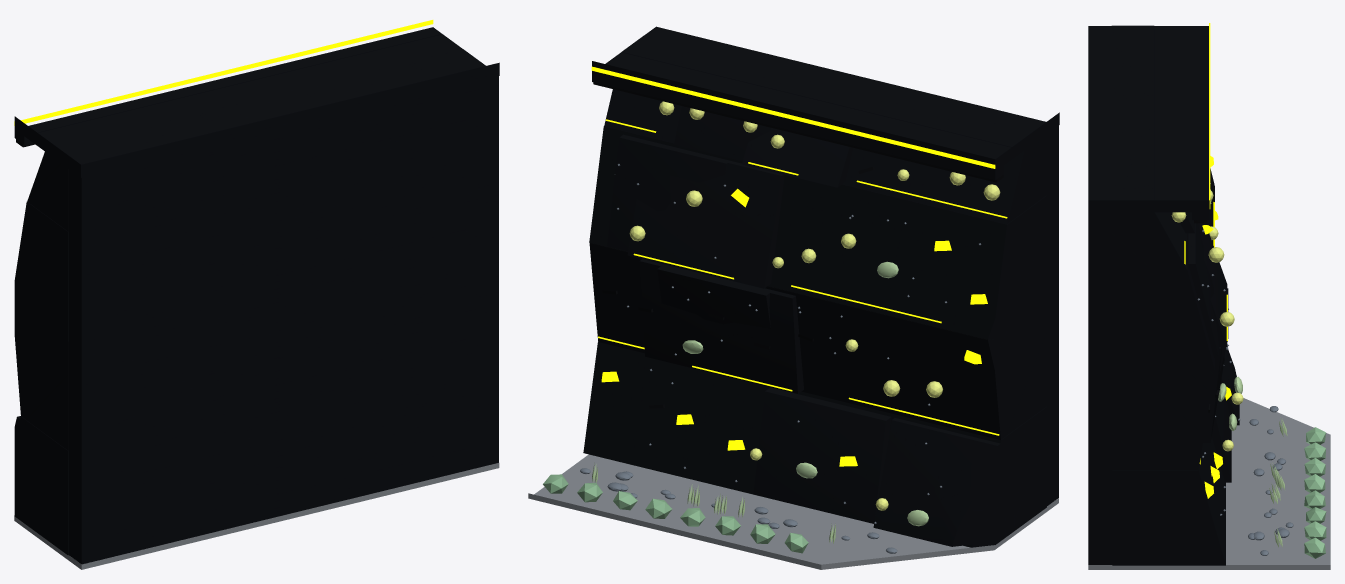
The model's file is tt_plinth_skirt_terrace_mitre_se.glb.
3 views of the same model, side by side, from view 1: azimuth 30°, elevation 25°; view 2: azimuth 150°, elevation 25°; view 3: azimuth 270°, elevation 25° (orthographic). The views are drawn at different scales.
Parts seen in each view (by area): view 1: Skirt_Core, Cap_Course, Course3_Facets, Course0_Facets, Course1_Facets, Course2_Facets, Base_Mat, Cap_Court_Line; view 2: Course2_Facets, Course0_Facets, Course1_Facets, Course3_Facets, Cap_Course, Base_Mat, Skirt_Core, Moss_Edge, Tennis_Ball_Holds, Cap_Court_Line, Seam_Tape, Jug_Holds (+4 smaller); view 3: Cap_Course, Base_Mat, Course0_Facets, Course2_Facets, Course3_Facets, Course1_Facets, Skirt_Core, Moss_Edge, Tennis_Ball_Holds, River_Stones, Jug_Holds, Grass_Tufts (+2 smaller).
Boxes of the visible parts, left/top/right/bottom form: Skirt_Core: left=68, top=75, right=498, bottom=564; Cap_Course: left=14, top=27, right=499, bottom=177; Course3_Facets: left=27, top=49, right=485, bottom=232; Course0_Facets: left=14, top=416, right=68, bottom=555; Course1_Facets: left=14, top=303, right=68, bottom=451; Course2_Facets: left=14, top=202, right=68, bottom=341; Base_Mat: left=14, top=463, right=499, bottom=569; Cap_Court_Line: left=14, top=20, right=433, bottom=125; Course2_Facets: left=589, top=126, right=1046, bottom=339; Course0_Facets: left=583, top=342, right=1046, bottom=547; Course1_Facets: left=589, top=242, right=1046, bottom=439; Course3_Facets: left=604, top=35, right=1046, bottom=224; Cap_Course: left=592, top=26, right=1059, bottom=180; Base_Mat: left=528, top=454, right=1058, bottom=569; Skirt_Core: left=1047, top=126, right=1058, bottom=505; Moss_Edge: left=543, top=474, right=808, bottom=553; Tennis_Ball_Holds: left=629, top=101, right=1000, bottom=510; Cap_Court_Line: left=591, top=66, right=995, bottom=168; Seam_Tape: left=598, top=119, right=1007, bottom=435; Jug_Holds: left=601, top=188, right=987, bottom=466; Cap_Course: left=1088, top=26, right=1209, bottom=220; Base_Mat: left=1088, top=398, right=1330, bottom=569; Course0_Facets: left=1112, top=349, right=1239, bottom=565; Course2_Facets: left=1112, top=168, right=1227, bottom=370; Course3_Facets: left=1111, top=25, right=1194, bottom=270; Course1_Facets: left=1111, top=288, right=1228, bottom=469; Skirt_Core: left=1088, top=212, right=1112, bottom=564; Moss_Edge: left=1304, top=427, right=1326, bottom=558; Tennis_Ball_Holds: left=1171, top=190, right=1243, bottom=451; River_Stones: left=1248, top=406, right=1293, bottom=555; Jug_Holds: left=1202, top=156, right=1231, bottom=498; Grass_Tufts: left=1269, top=418, right=1287, bottom=547.
Size of what is drawn, in the model's own units: 4 by 3.7 by 2.2.
8 materials, 3 textured.
